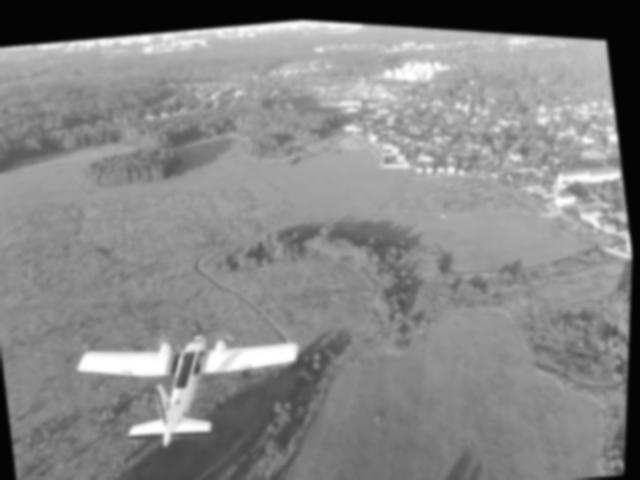hedef: (70, 290, 319, 475)
